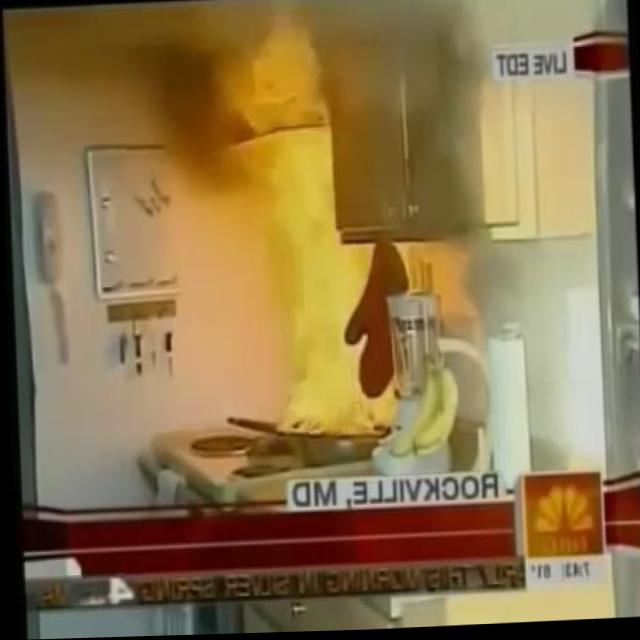fire: (269, 185, 390, 444)
